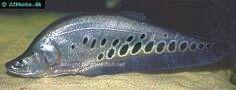Knifefish: (6, 10, 233, 79)
